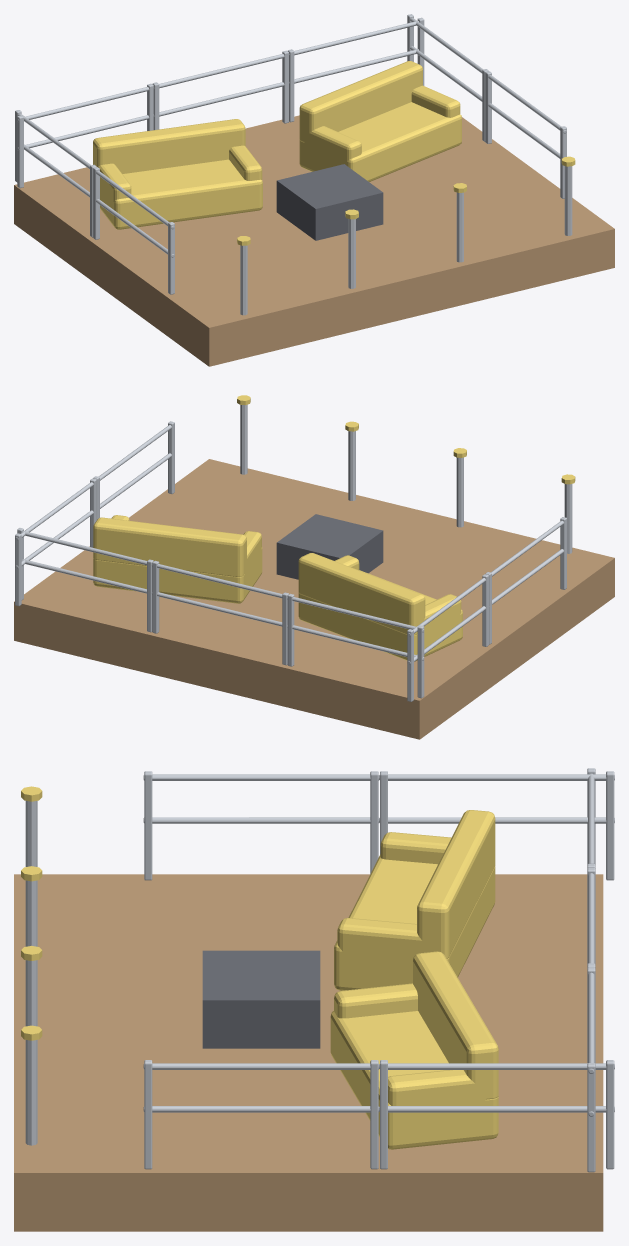
The model's file is VipLounge.fbx.
3 views of the same model, one above another, from view 1: azimuth 30°, elevation 25°; view 2: azimuth 150°, elevation 25°; view 3: azimuth 270°, elevation 25° (orthographic). The views are drawn at different scales.
Visible parts, largest first — view 1: Vip_Deck, Vip_SofaL, Vip_SofaR, Vip_Table, Vip_RailBack0.0, Vip_RailBack-2.0, Vip_RailBack2.0, Vip_RailL-1.4, Vip_RailR-1.4, Vip_RailR0.6, Vip_RailL0.6, Vip_Post3 (+3 smaller); view 2: Vip_Deck, Vip_SofaR, Vip_SofaL, Vip_Table, Vip_RailBack-2.0, Vip_RailBack0.0, Vip_RailBack2.0, Vip_RailL0.6, Vip_RailR0.6, Vip_RailL-1.4, Vip_RailR-1.4, Vip_Post2 (+3 smaller); view 3: Vip_Deck, Vip_SofaR, Vip_SofaL, Vip_Table, Vip_RailR-1.4, Vip_RailL-1.4, Vip_RailR0.6, Vip_RailL0.6, Vip_RailBack2.0, Vip_Post3, Vip_RailBack0.0, Vip_RailBack-2.0 (+3 smaller).
Part boxes in pixels (<box>): Vip_Deck: <box>14,115,614,366</box>; Vip_SofaL: <box>93,119,262,229</box>; Vip_SofaR: <box>299,61,461,181</box>; Vip_Table: <box>276,164,383,240</box>; Vip_RailBack0.0: <box>152,50,288,129</box>; Vip_RailBack-2.0: <box>17,83,153,188</box>; Vip_RailBack2.0: <box>288,17,424,122</box>; Vip_RailL-1.4: <box>93,167,174,294</box>; Vip_RailR-1.4: <box>485,71,566,198</box>; Vip_RailR0.6: <box>407,14,488,141</box>; Vip_RailL0.6: <box>15,110,96,237</box>; Vip_Post3: <box>564,166,572,235</box>; Vip_Deck: <box>14,459,614,739</box>; Vip_SofaR: <box>93,515,262,603</box>; Vip_SofaL: <box>298,553,462,661</box>; Vip_Table: <box>276,514,383,579</box>; Vip_RailBack-2.0: <box>287,593,424,698</box>; Vip_RailBack0.0: <box>152,560,288,665</box>; Vip_RailBack2.0: <box>17,528,153,632</box>; Vip_RailL0.6: <box>407,574,488,701</box>; Vip_RailR0.6: <box>15,478,96,606</box>; Vip_RailL-1.4: <box>485,517,566,644</box>; Vip_RailR-1.4: <box>93,421,174,519</box>; Vip_Post2: <box>348,431,355,500</box>; Vip_Deck: <box>14,874,603,1231</box>; Vip_SofaR: <box>330,951,498,1149</box>; Vip_SofaL: <box>334,810,495,990</box>; Vip_Table: <box>202,950,320,1048</box>; Vip_RailR-1.4: <box>143,1060,379,1169</box>; Vip_RailL-1.4: <box>143,771,379,880</box>; Vip_RailR0.6: <box>379,1060,614,1169</box>; Vip_RailL0.6: <box>379,771,614,880</box>; Vip_RailBack2.0: <box>587,967,595,1172</box>; Vip_Post3: <box>25,1040,37,1145</box>; Vip_RailBack0.0: <box>587,867,595,968</box>; Vip_RailBack-2.0: <box>587,768,595,868</box>.
Size of the model in its own units: 600 by 161 by 510.
